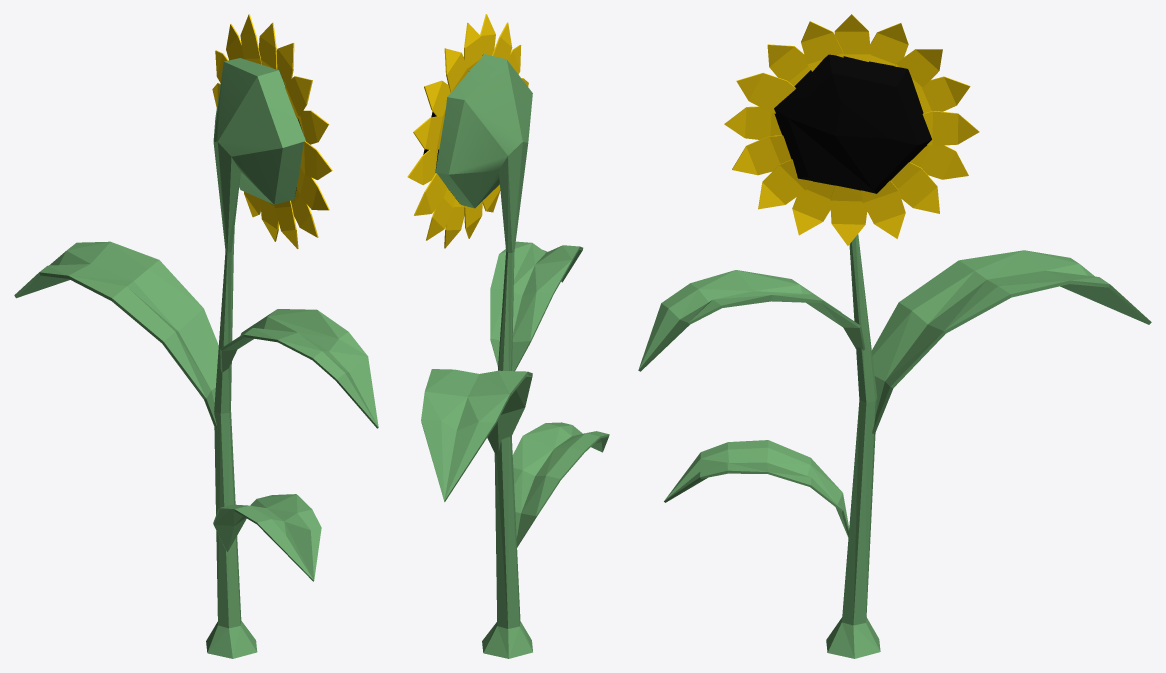
The model's file is sunflower.glb.
The picture shows the model from 3 angles, left to right: view 1: azimuth 30°, elevation 25°; view 2: azimuth 150°, elevation 25°; view 3: azimuth 270°, elevation 25°; orthographic projection. The views are drawn at different scales.
Parts seen in each view (by area): view 1: sunflower; view 2: sunflower; view 3: sunflower.
Boxes of the visible parts, <box> form: sunflower: <box>14,14,378,658</box>; sunflower: <box>407,14,609,658</box>; sunflower: <box>638,14,1151,658</box>.
Size of the model in its own units: 0.3991 by 1.54 by 1.1.
Materials: 1 (1 with a texture image).
